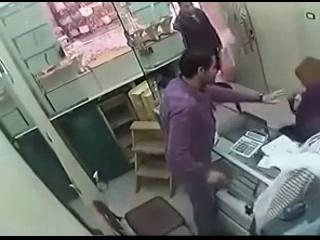Normal: (159, 48, 283, 235), (280, 200, 308, 220)
